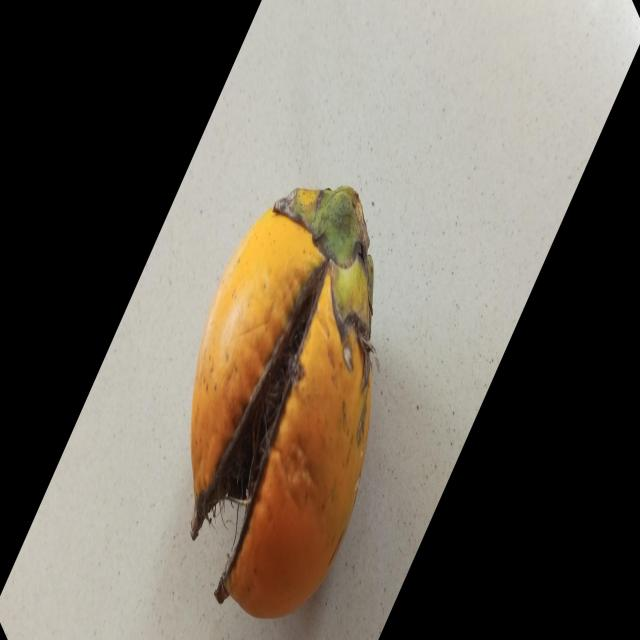damaged: (189, 188, 372, 621)
